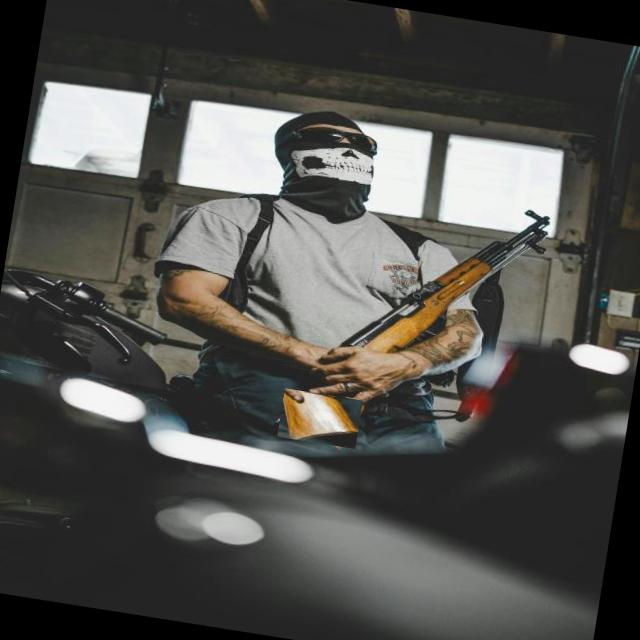Gun: (342, 211, 548, 353), (283, 392, 358, 440)
